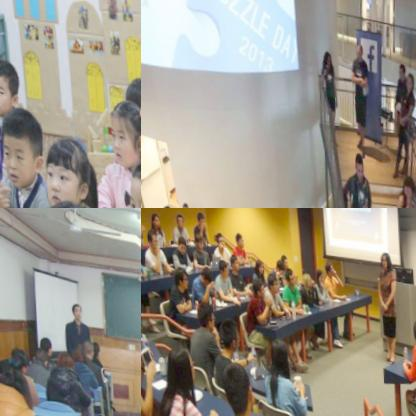head: (39, 134, 91, 208), (0, 104, 43, 189), (103, 93, 141, 164), (216, 354, 252, 416), (160, 339, 193, 397), (119, 147, 141, 208), (263, 332, 291, 375), (0, 365, 26, 408), (122, 69, 141, 127), (213, 310, 238, 353), (0, 58, 18, 113), (191, 298, 212, 331), (51, 345, 71, 373), (7, 345, 26, 372), (168, 261, 185, 291), (196, 261, 212, 288), (67, 339, 84, 364), (248, 276, 265, 299), (143, 225, 158, 250), (29, 344, 45, 365), (34, 331, 50, 352), (263, 266, 276, 291), (398, 166, 410, 193), (77, 334, 91, 357), (214, 254, 227, 278), (85, 333, 98, 356), (350, 144, 361, 171), (403, 61, 413, 87), (376, 239, 387, 262), (212, 228, 224, 249), (67, 298, 80, 317), (284, 261, 294, 285), (299, 265, 311, 285), (320, 40, 329, 66), (322, 253, 332, 275), (409, 307, 416, 338), (275, 246, 287, 264), (311, 263, 323, 281), (192, 227, 202, 247), (173, 235, 184, 253), (352, 32, 361, 53), (148, 209, 159, 226), (226, 250, 237, 267), (395, 53, 404, 73), (271, 253, 281, 271), (231, 229, 242, 245), (251, 253, 261, 269), (194, 209, 203, 226), (173, 210, 182, 226), (377, 198, 390, 208), (176, 198, 186, 208), (157, 201, 168, 208)
